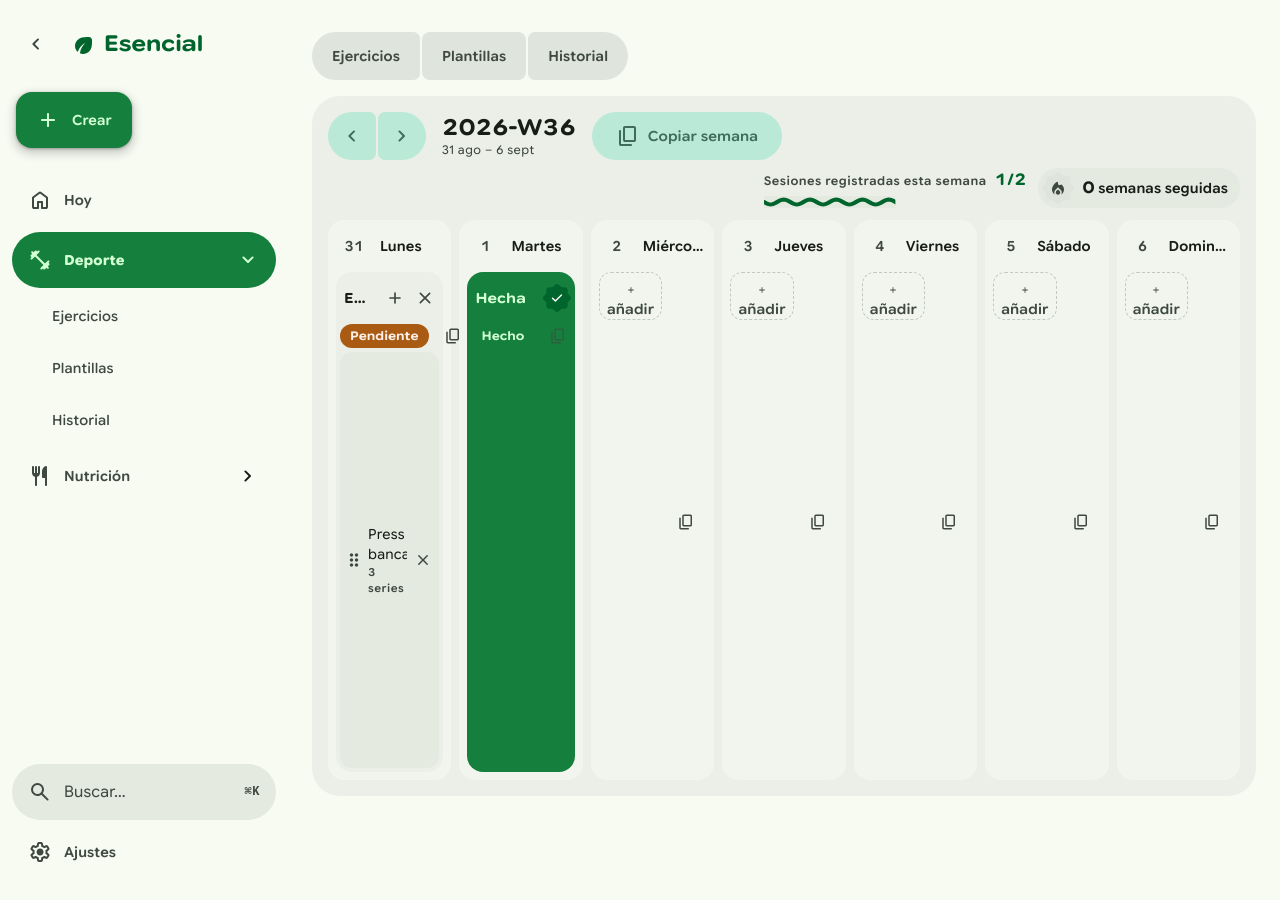
Test: copiar un día a otro día › un destino registrado se ofrece como no disponible, con el motivo a la vista
Expected: the heading "2026-W36" is shown, [442, 114, 576, 142]
Step 1. Click the button named "Copiar al mar 1 sept" → (558, 336), box [538, 316, 578, 356]
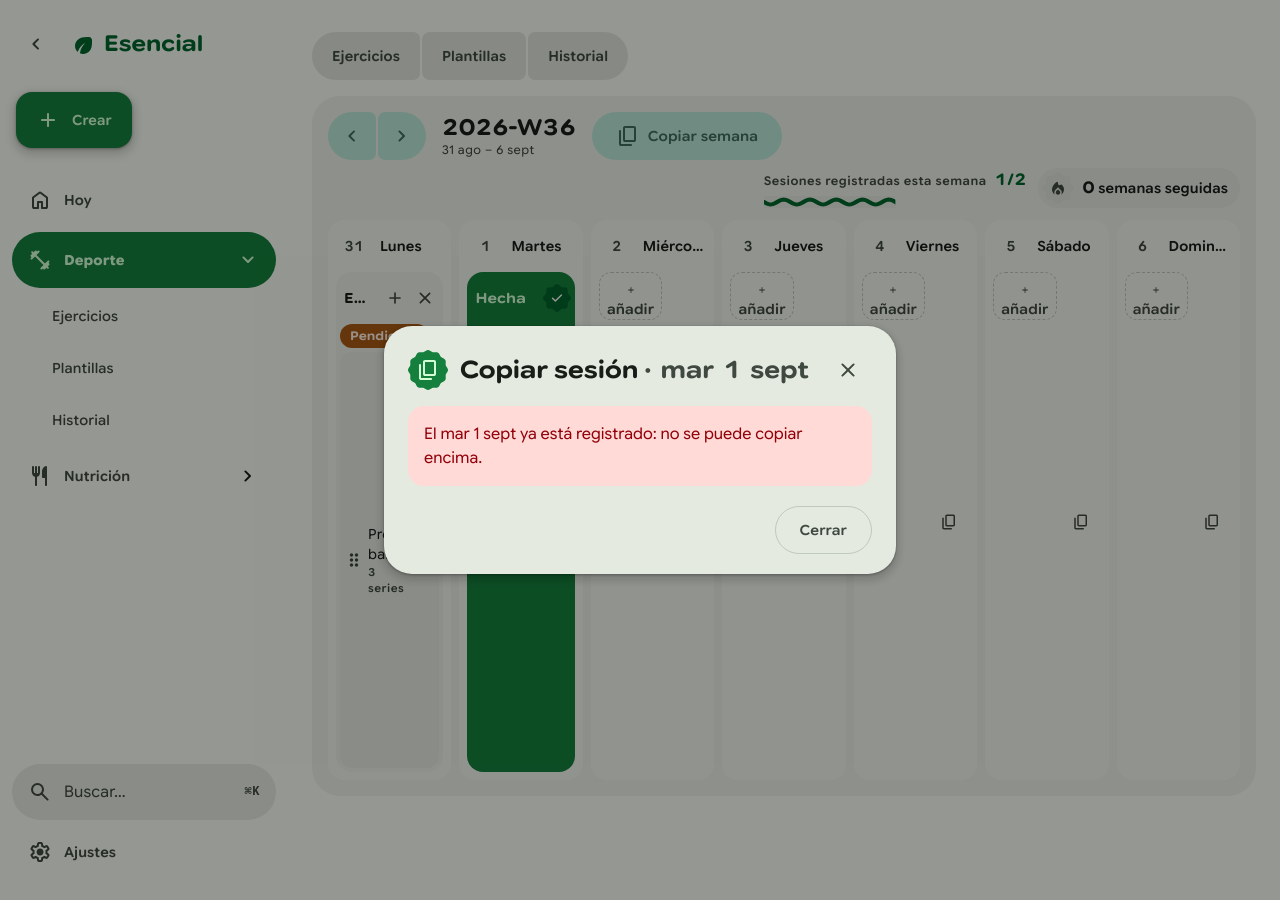
Expected: the text "El mar 1 sept ya está registrado: no se puede copiar encima." is shown, [408, 406, 872, 486]
